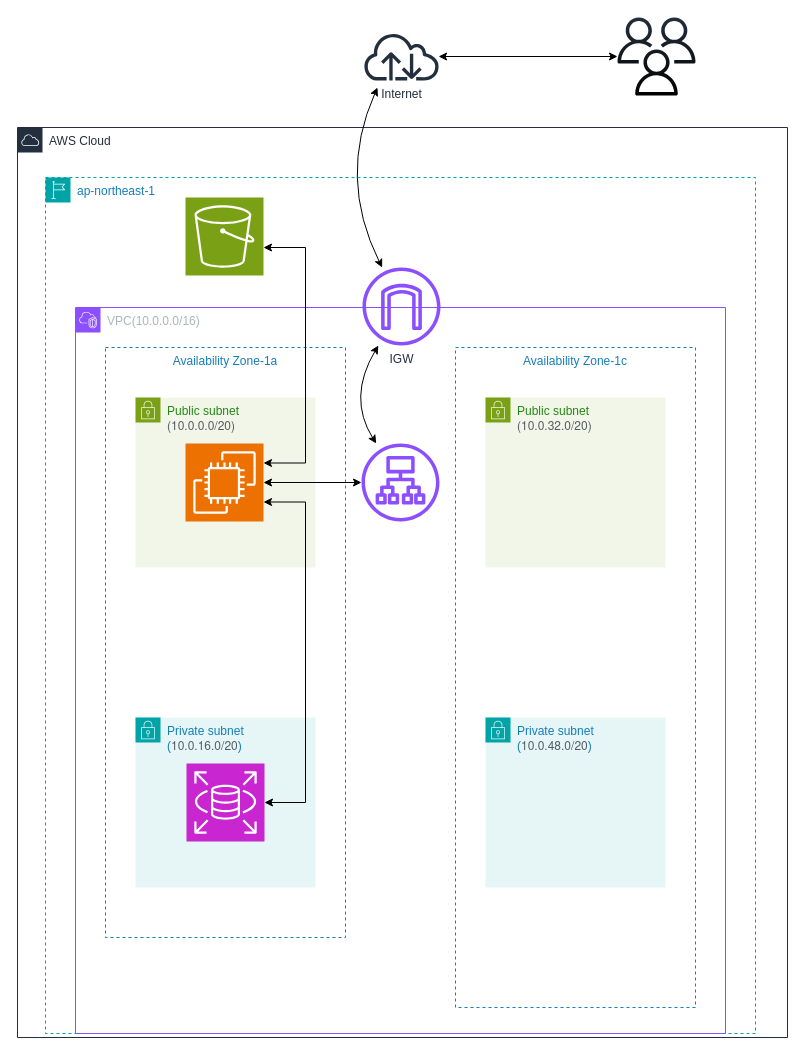
This 805x1055 diagram has some shape labels left out. The shapes that lost their labels are listed below. From the top down, each one's centre as x and y in pixels, then its label:
pixel 656 56: User
pixel 224 236: S3
pixel 224 482: EC2
pixel 400 482: ALB
pixel 225 802: RDS
